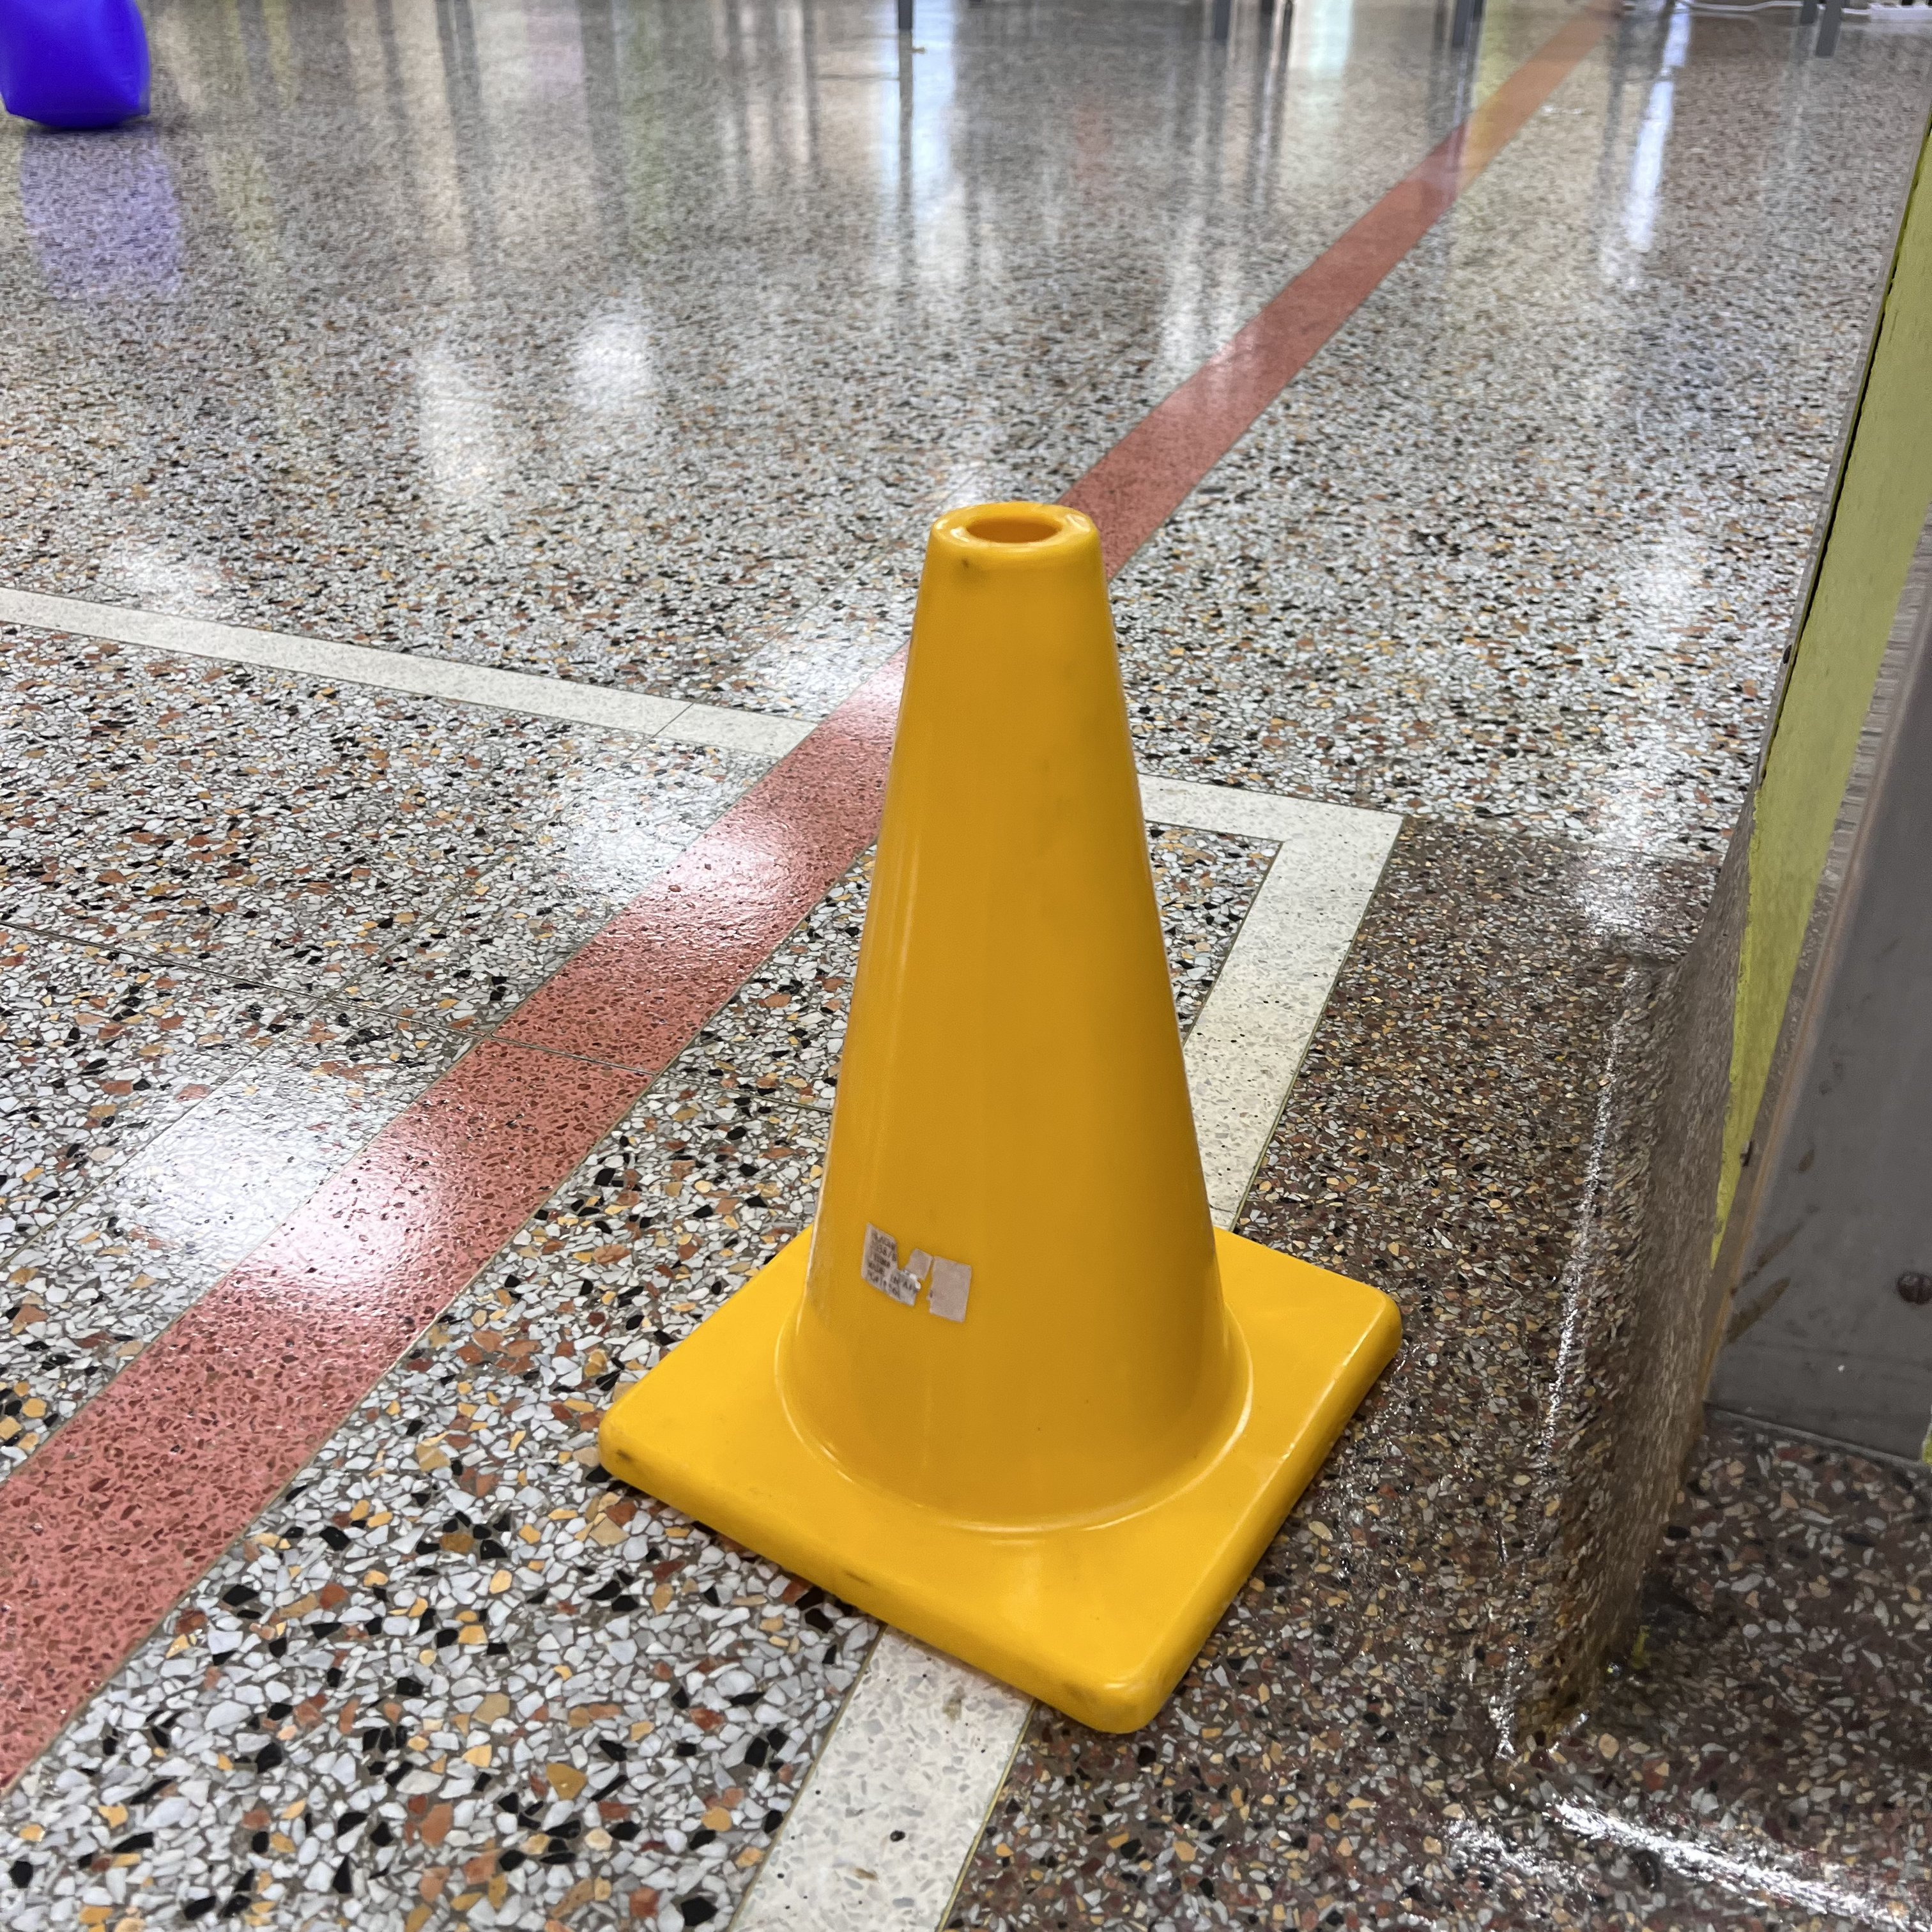cone: (596, 501, 1401, 1734)
cube: (0, 0, 152, 129)
